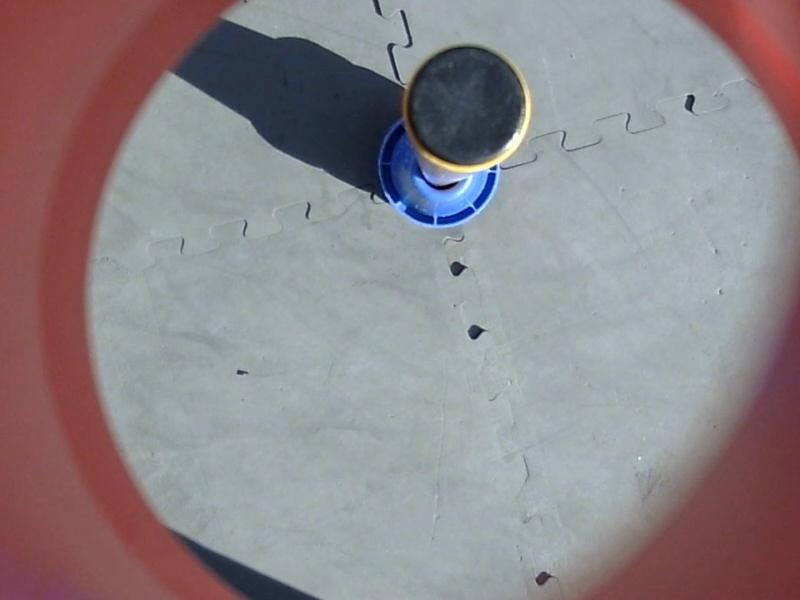tip: (389, 34, 541, 178)
